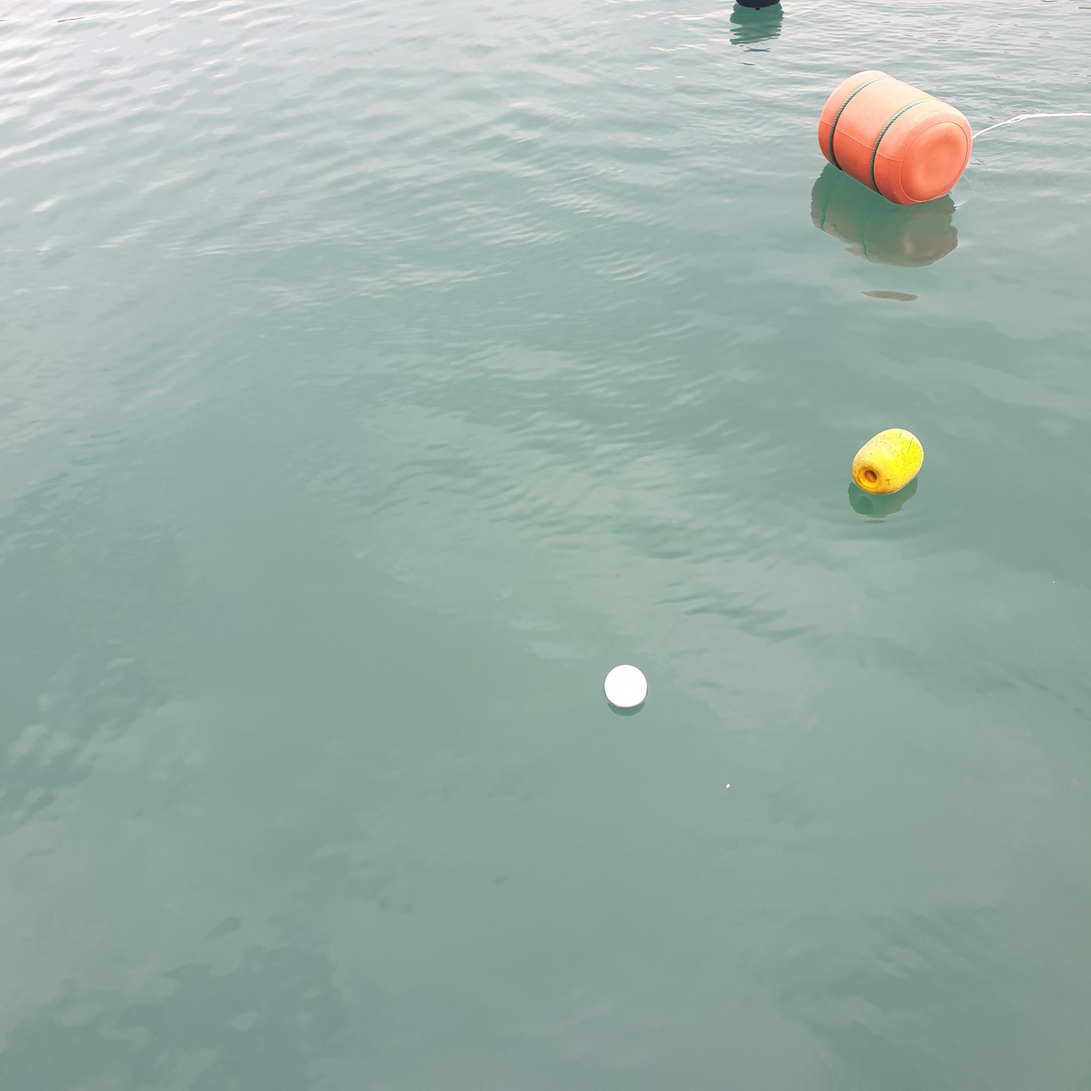sampah_terapung: (818, 70, 973, 207), (852, 429, 925, 495), (973, 112, 1091, 140), (605, 665, 648, 708)
